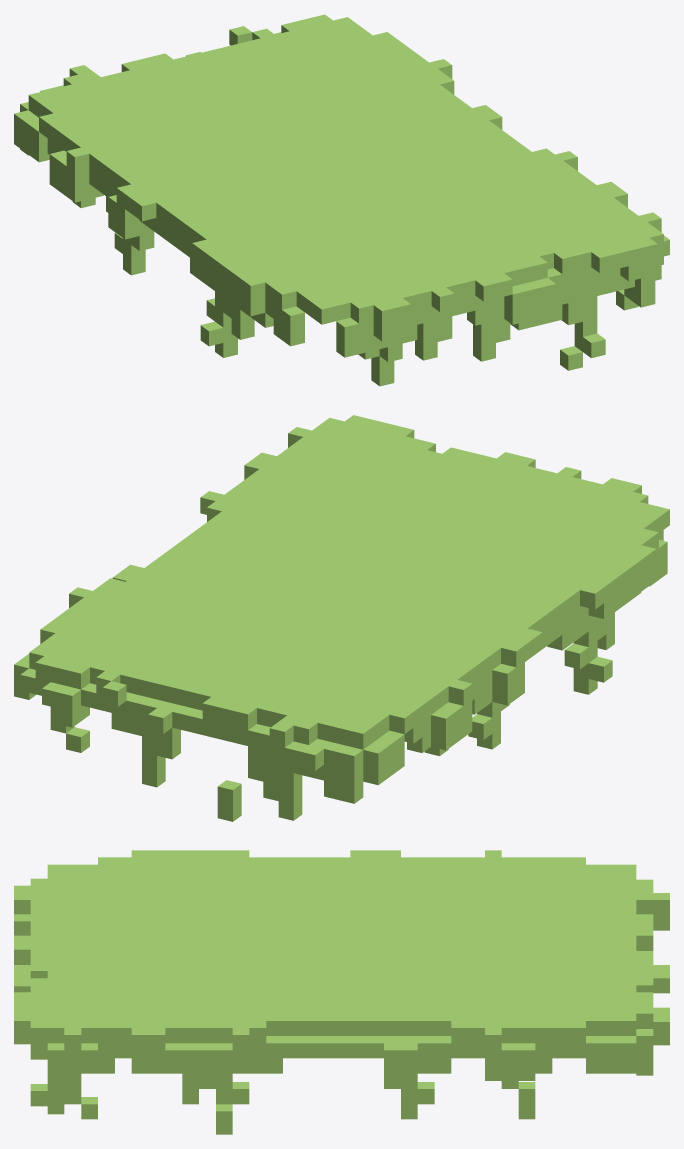
File: Medieval Assets-11-Elevated - Dirt Chunk Grass.obj
The picture shows the model from 3 angles, top to bottom: view 1: azimuth 30°, elevation 25°; view 2: azimuth 150°, elevation 25°; view 3: azimuth 270°, elevation 25°; orthographic projection. The views are drawn at different scales.
Visible parts, largest first — view 1: Elevated - Dirt Chunk Grass; view 2: Elevated - Dirt Chunk Grass; view 3: Elevated - Dirt Chunk Grass.
Part boxes in pixels (x1,y1,x2,y2): Elevated - Dirt Chunk Grass: [14, 14, 669, 386]; Elevated - Dirt Chunk Grass: [14, 415, 669, 821]; Elevated - Dirt Chunk Grass: [14, 850, 669, 1134].
Size of the model in its own units: 2.6 by 0.8 by 3.9.
1 material, 1 textured.
